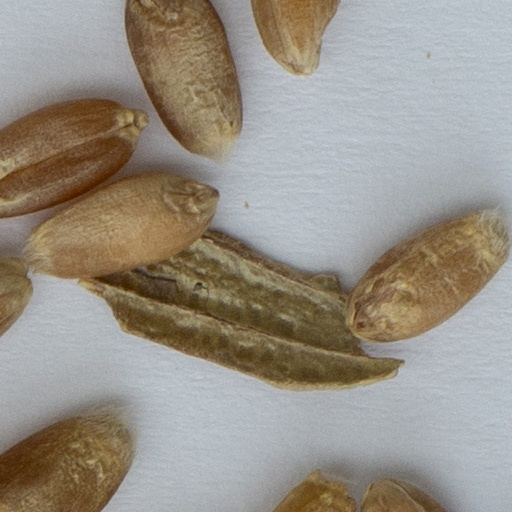Peel-poly: (82, 222, 409, 392)
Wheat-grain-poly: (348, 203, 510, 339), (18, 173, 221, 276), (125, 0, 247, 164), (0, 95, 149, 220)
